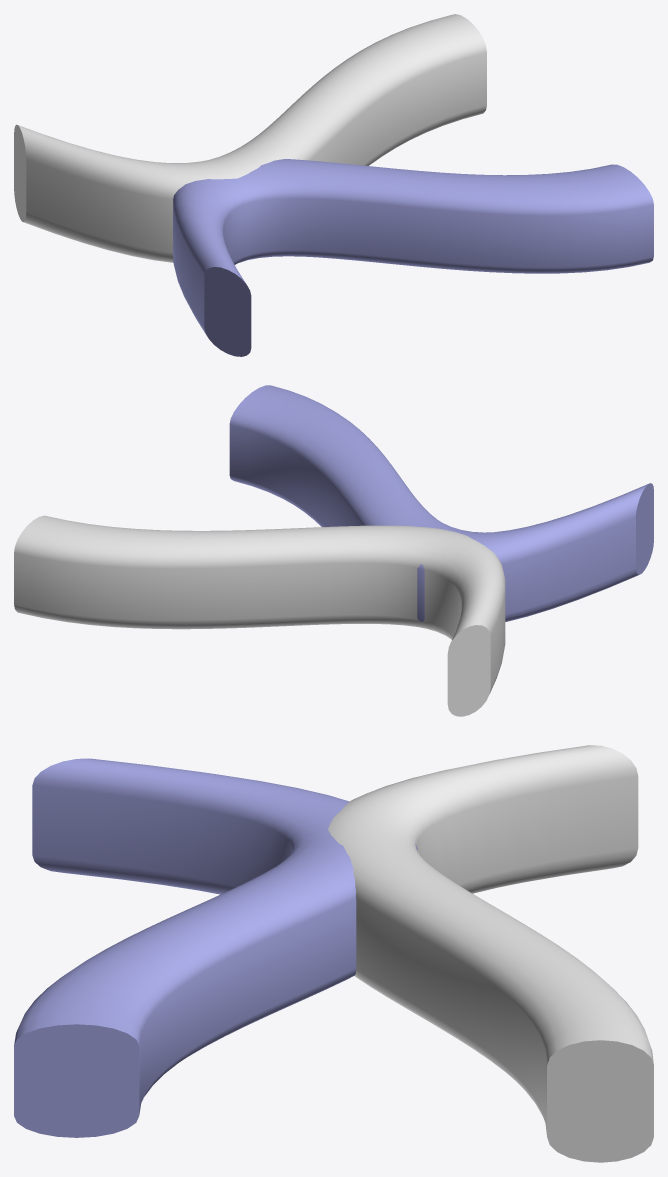
File: chromosome.gltf
The picture shows the model from 3 angles, top to bottom: view 1: azimuth 30°, elevation 25°; view 2: azimuth 150°, elevation 25°; view 3: azimuth 270°, elevation 25°; orthographic projection. The views are drawn at different scales.
Visible parts, largest first — view 1: BezierCurve, BezierCurve.001; view 2: BezierCurve.001, BezierCurve; view 3: BezierCurve, BezierCurve.001.
Boxes of the visible parts, box(x1,y1,x2,y2) form: BezierCurve: box(173, 159, 653, 356); BezierCurve.001: box(14, 14, 486, 262); BezierCurve.001: box(14, 515, 505, 716); BezierCurve: box(229, 385, 653, 622); BezierCurve: box(14, 758, 417, 1137); BezierCurve.001: box(328, 745, 653, 1162).
Bounding box in the file's own units: 2.77 × 0.5279 × 2.5.
